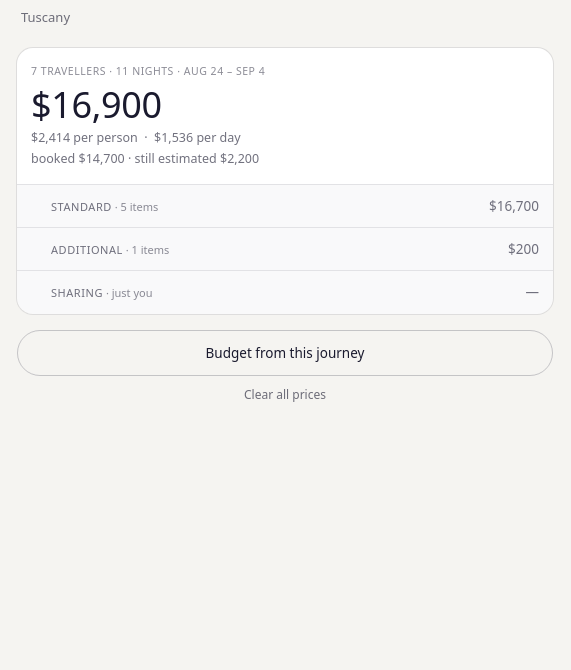
Test: Budget uses real numbers (6 Oct 2026) › partly booked stays keep the nightly rate for the open nights
Click the text "Standard": [81, 206] box [51,199,158,214]
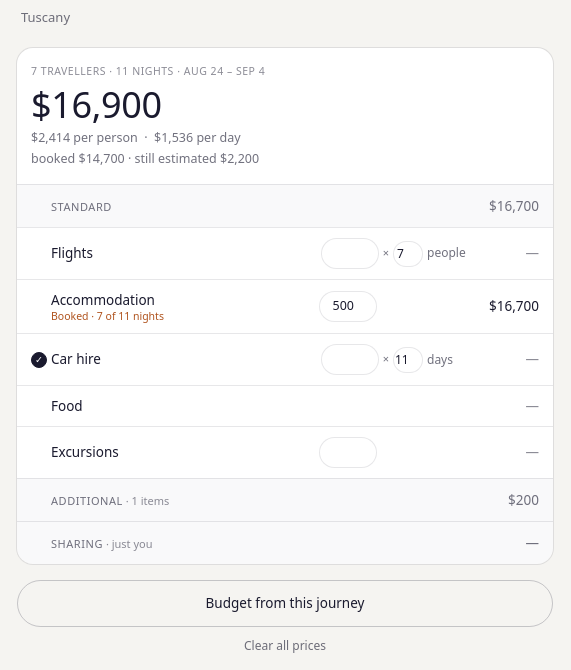
Expected: the text with test id "estimate-booked" reads "booked $14,700 · still estimated $2,200", [31,150,259,167]
Expected: the text "Booked · 7 of 11 nights" is shown, [51,309,164,323]
Expected: the number field named "Accommodation unit cost" is shown, [319,291,377,322]
